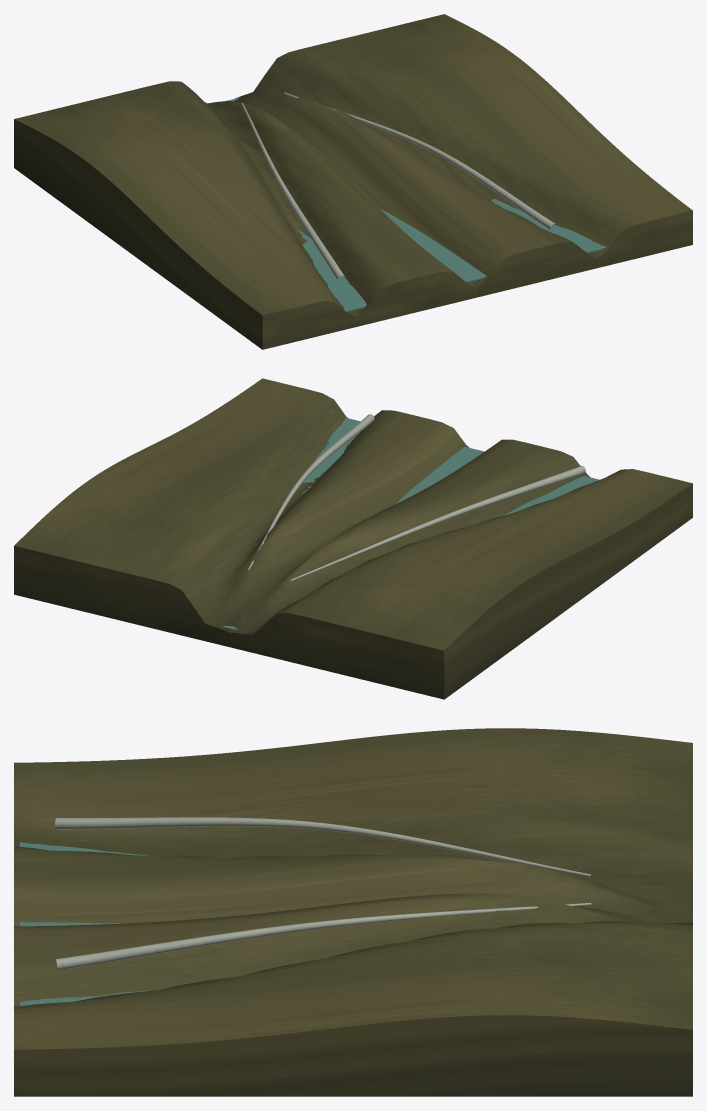
File: bellroot-fen-floodward-marches-silt-fan-delta-5e540ede__32920.glb
3 views of the same model, one above another, from view 1: azimuth 30°, elevation 25°; view 2: azimuth 150°, elevation 25°; view 3: azimuth 270°, elevation 25° (orthographic). The views are drawn at different scales.
Parts seen in each view (by area): view 1: silt-fan-delta; view 2: silt-fan-delta; view 3: silt-fan-delta.
Boxes of the visible parts, x1,y1,x2,y2 form: silt-fan-delta: (14,14,692,349); silt-fan-delta: (14,378,692,699); silt-fan-delta: (14,728,692,1096).
Size of the model in its own units: 4 by 0.5298 by 4.
Materials: 3 (2 with a texture image).
